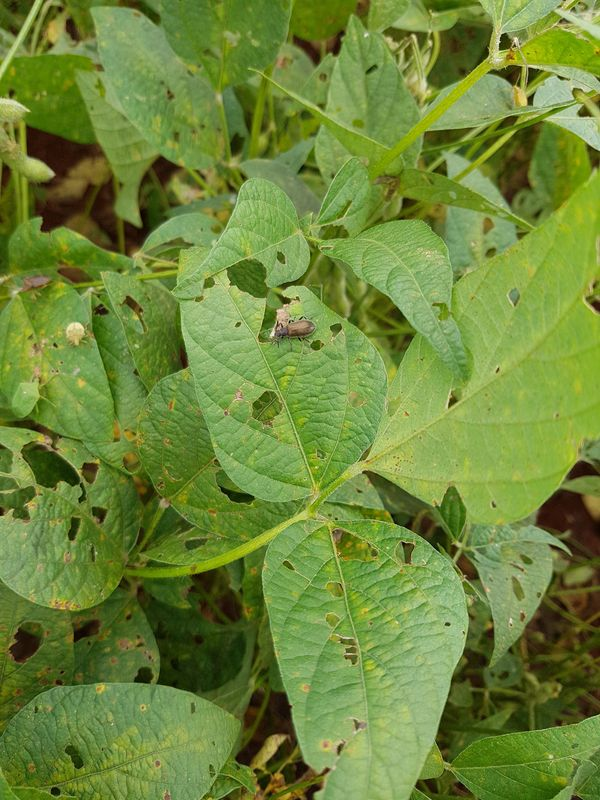Euschistus_heros_adulto: (13, 268, 60, 302)
Euschistus_heros_ninfa: (58, 318, 94, 352)
Lagria_villosa: (263, 308, 324, 350)
Nezara_viridula_adulto: (6, 364, 67, 430)
